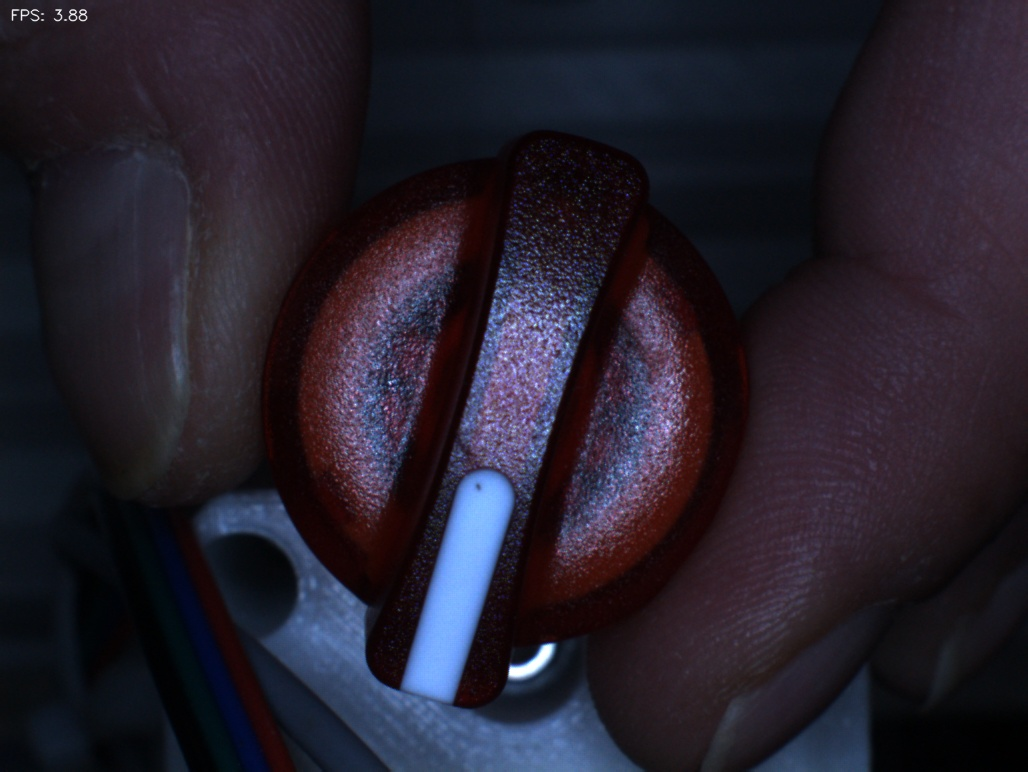PointNoir: (447, 444, 511, 521)
